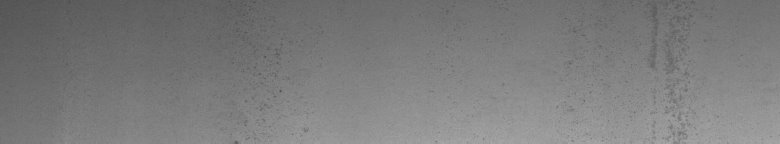ib: (244, 44, 309, 135)
